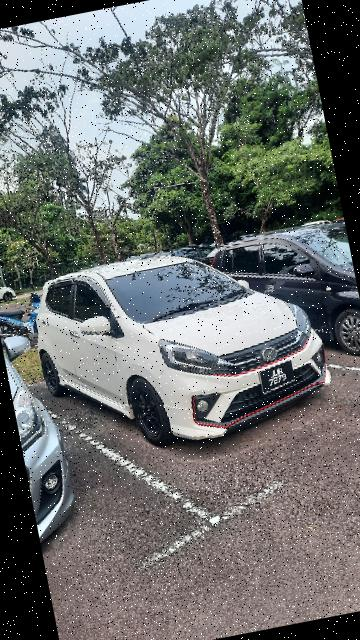License_Plate: (253, 358, 303, 399)
car: (28, 223, 343, 469), (211, 218, 360, 381), (1, 332, 89, 549)
